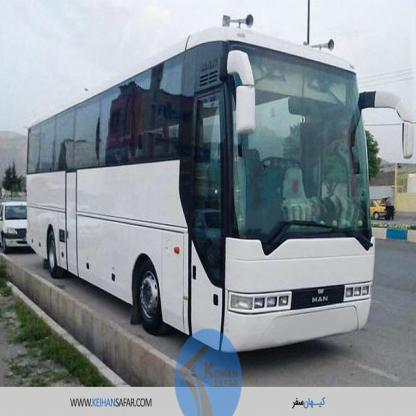Bus: (25, 32, 384, 363)
Car: (0, 203, 41, 257), (365, 191, 388, 222)
